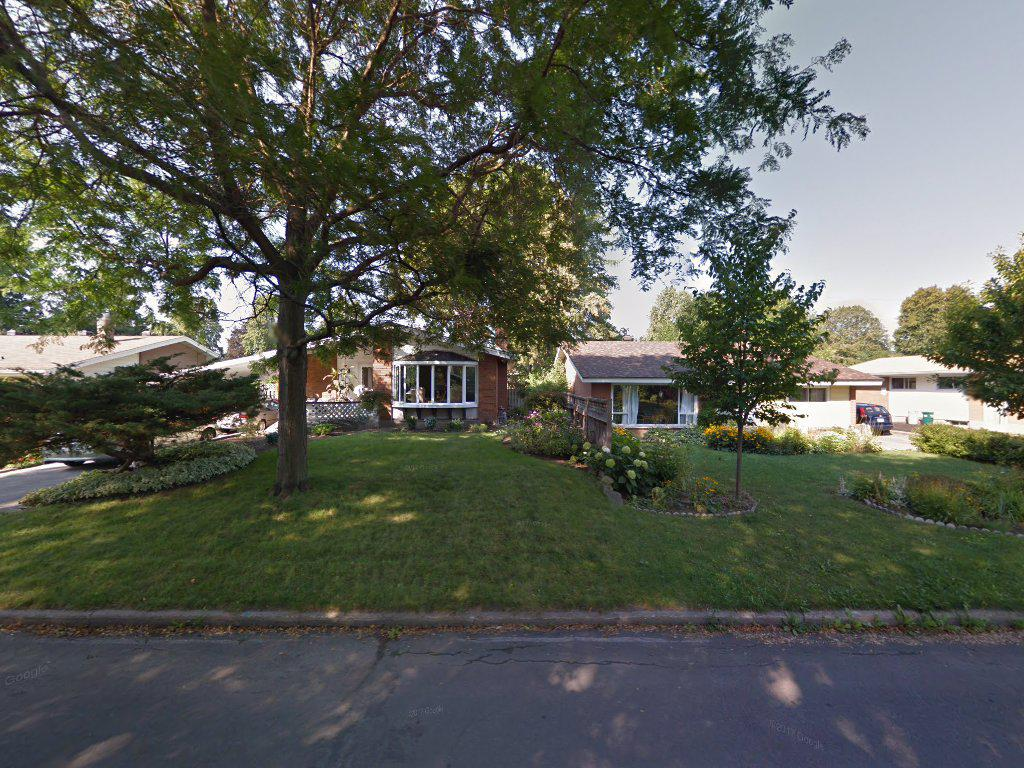trunk: (267, 225, 322, 506), (727, 415, 752, 512)
